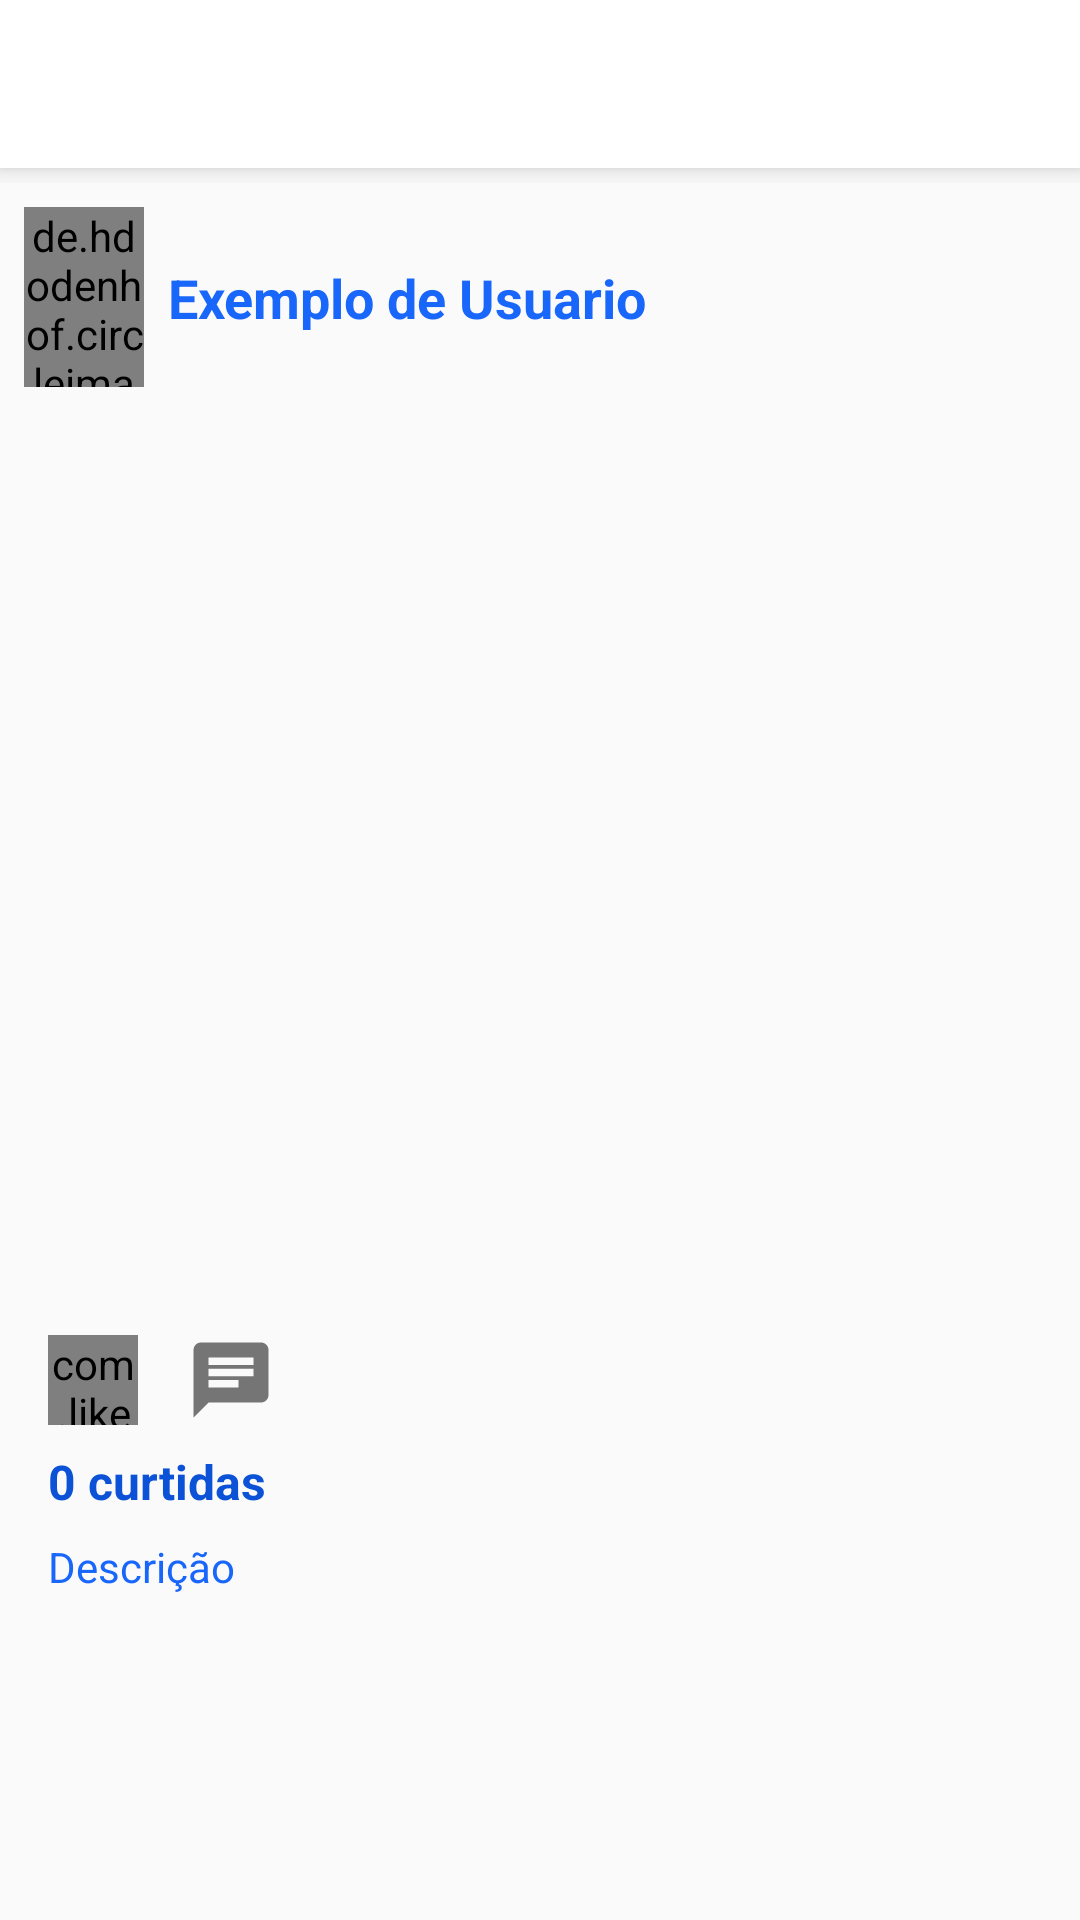

Where icons sit on this 1080×1920 app screen, as BBox(x1, y1, x2, y2):
chat: BBox(193, 1342, 269, 1418)
